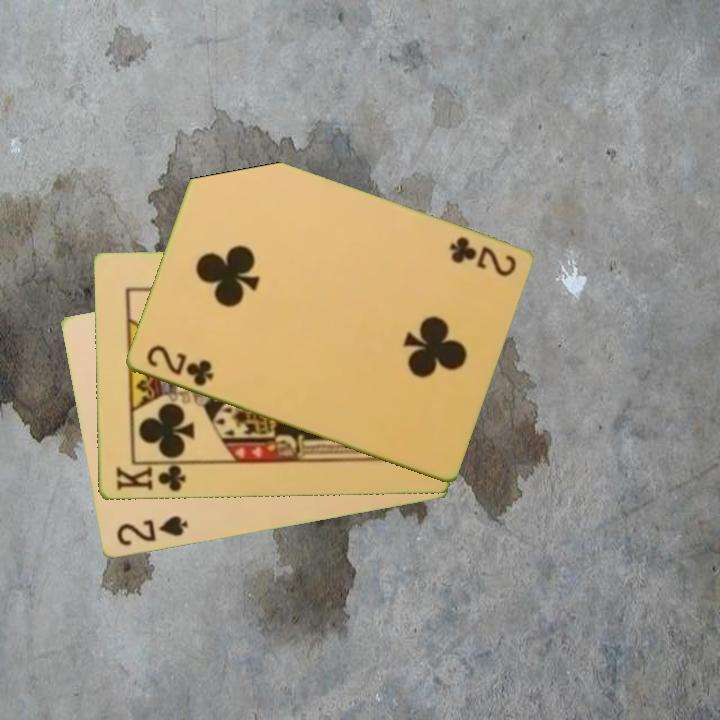2c: (142, 342, 216, 390), (445, 233, 519, 280)
2s: (112, 512, 191, 550)
Kc: (111, 460, 191, 495)
